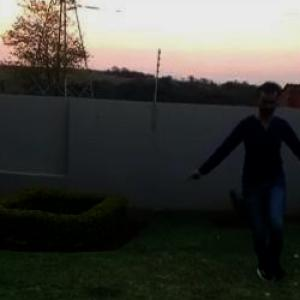land: (205, 81, 299, 260)
